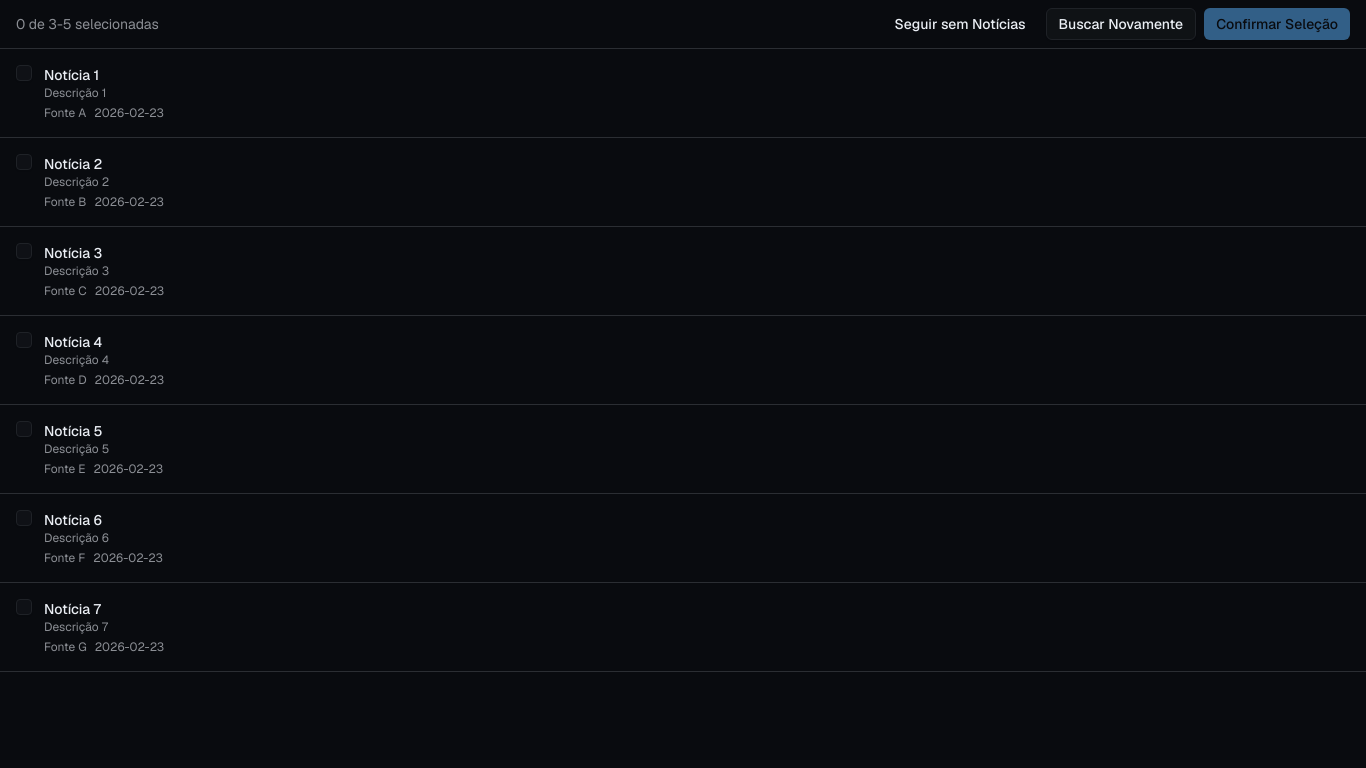
NewsletterNewsPhase › não permite selecionar mais de 5 notícias
The image size is (1366, 768).
Note: Select 5 items
Click the checkbox named "Selecionar Notícia 1": {"x": 24, "y": 73} [16,65,32,81]
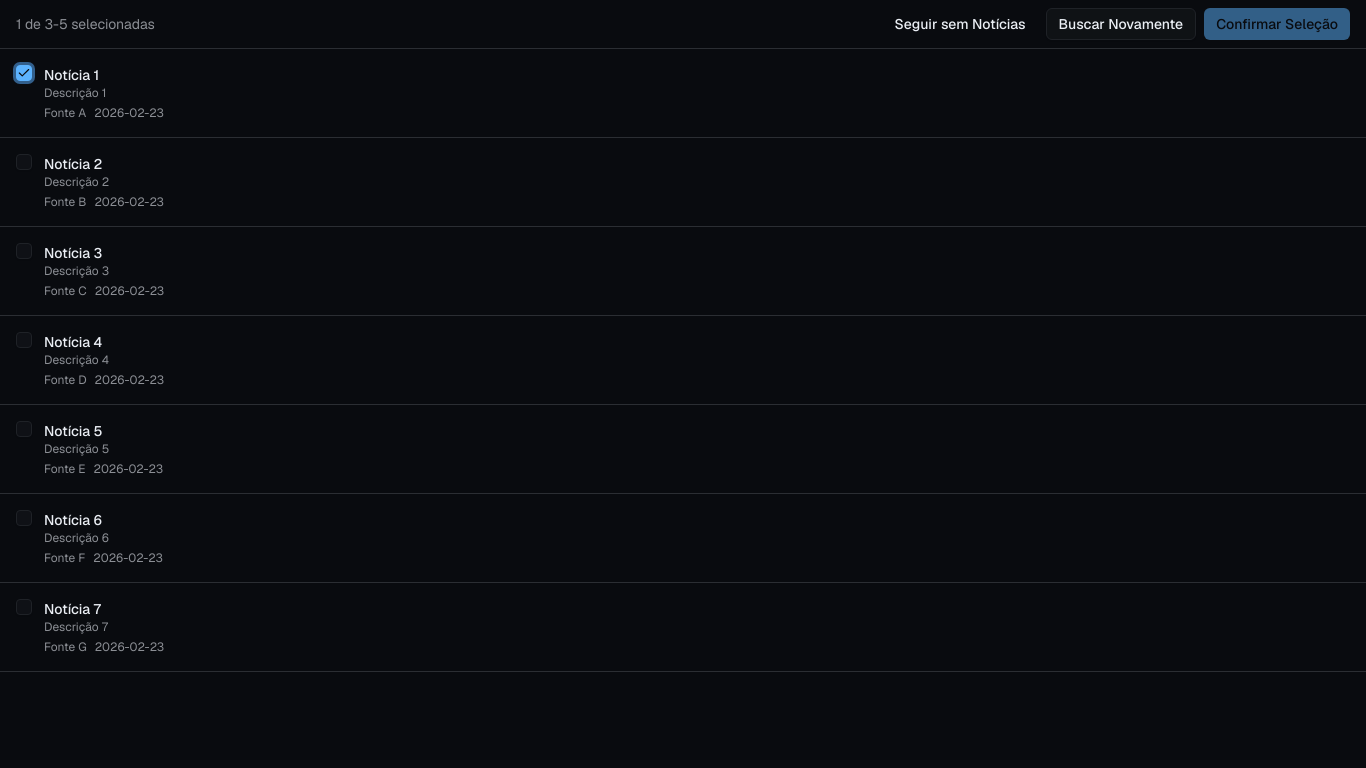
Click the checkbox named "Selecionar Notícia 2": {"x": 24, "y": 162} [16,154,32,170]
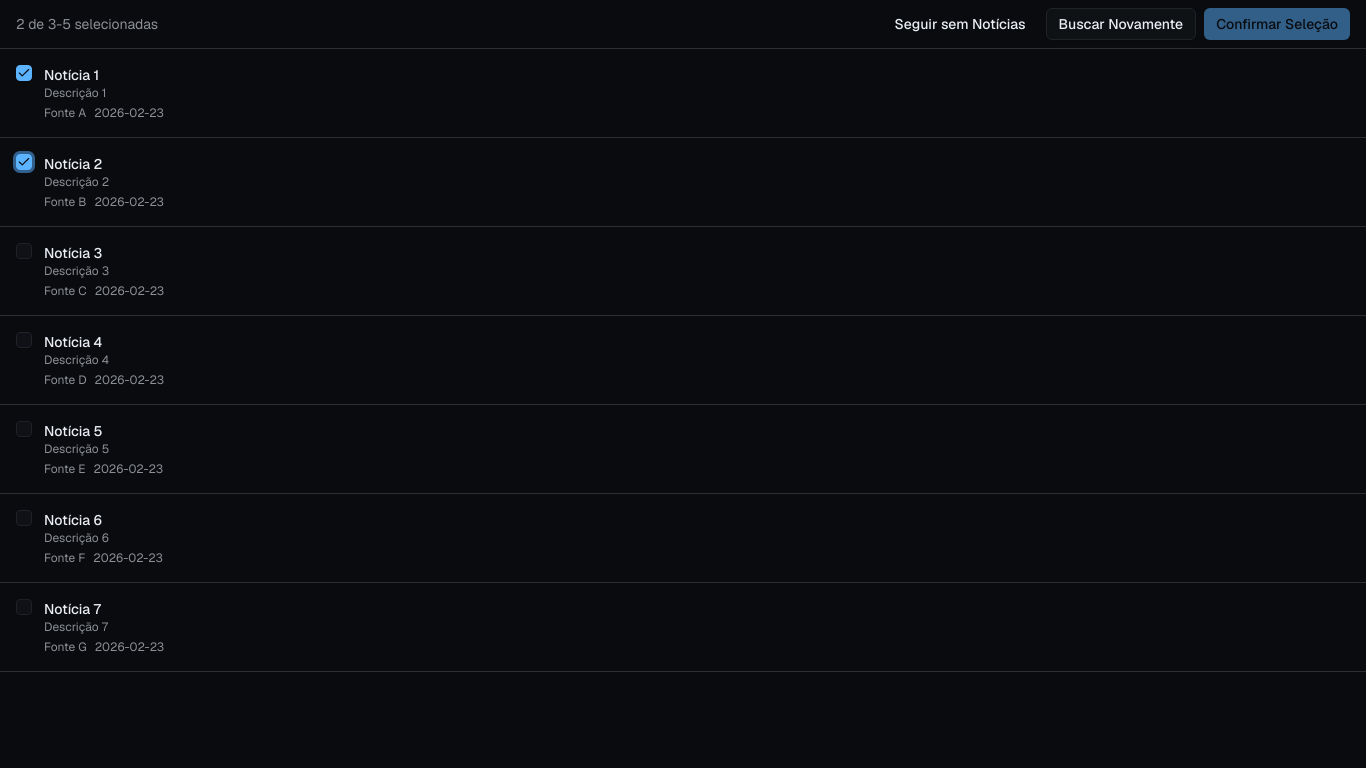
Click the checkbox named "Selecionar Notícia 3": {"x": 24, "y": 251} [16,243,32,259]
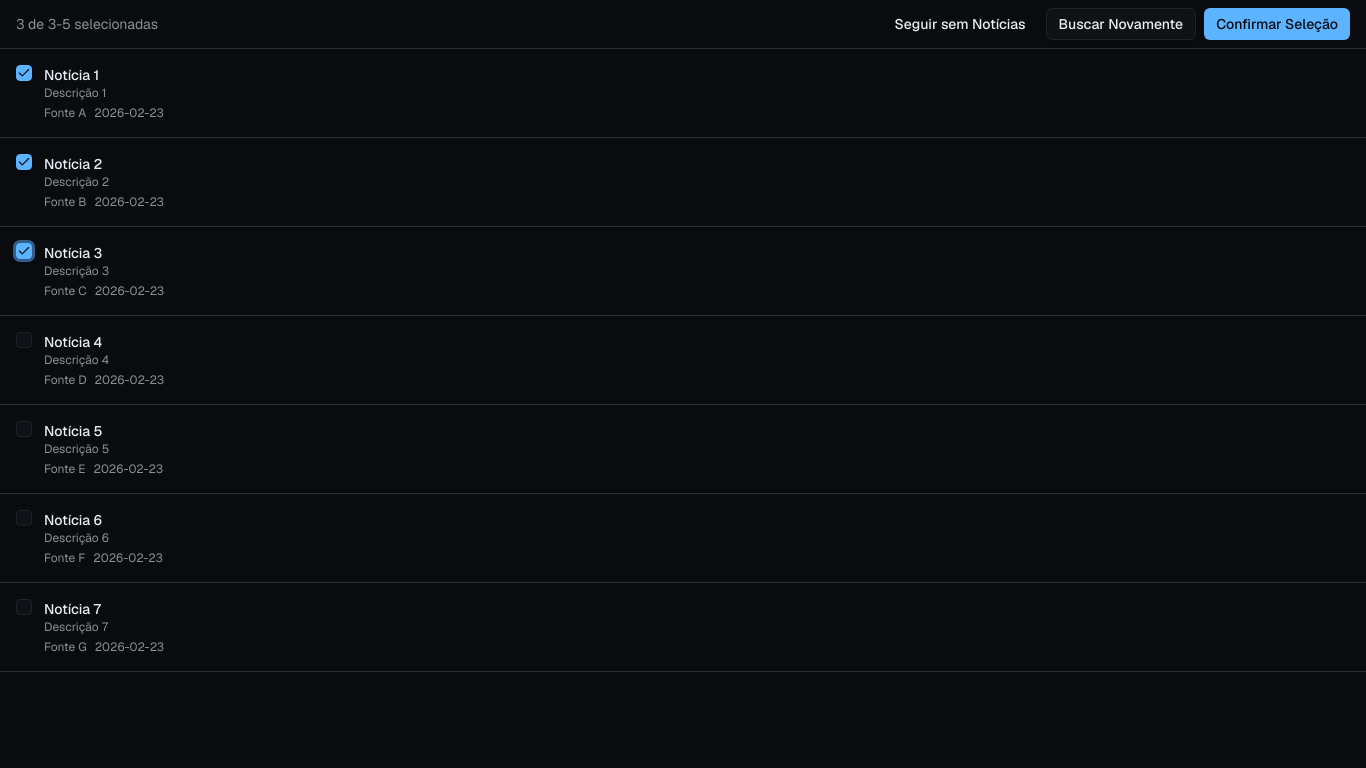
Click the checkbox named "Selecionar Notícia 4": {"x": 24, "y": 340} [16,332,32,348]
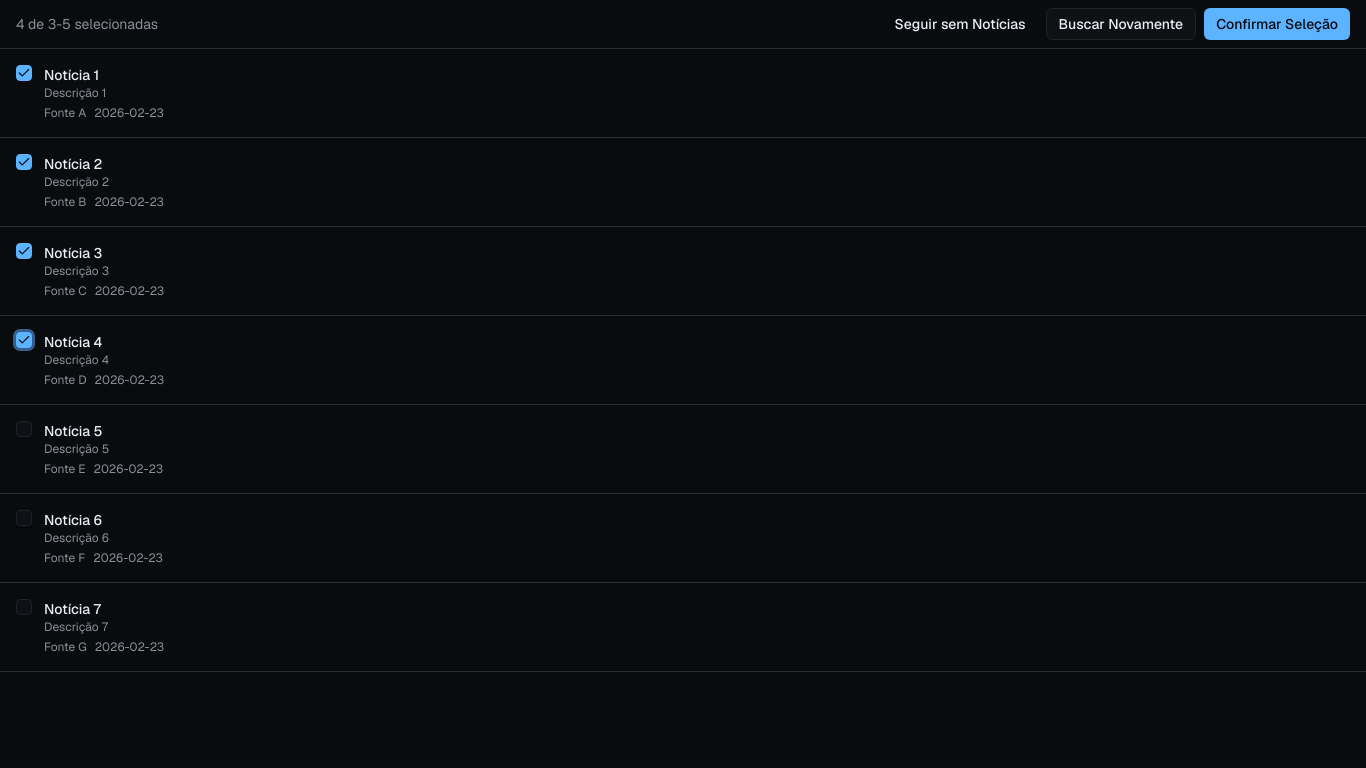
Click the checkbox named "Selecionar Notícia 5": {"x": 24, "y": 429} [16,421,32,437]
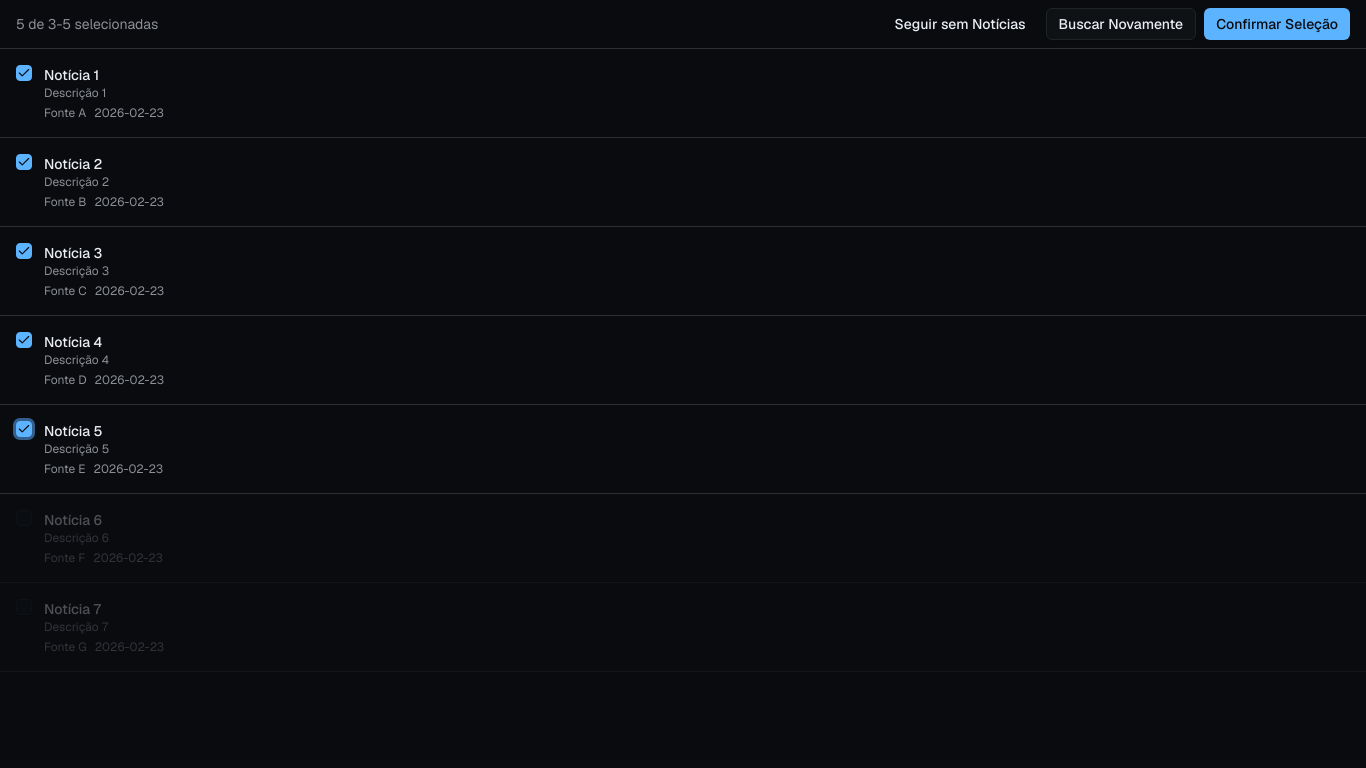
Expected: the button "Confirmar Seleção" is enabled, [1204,8,1350,40]
Expected: the text "5 de 3-5 selecionadas" is shown, [16,14,158,34]
